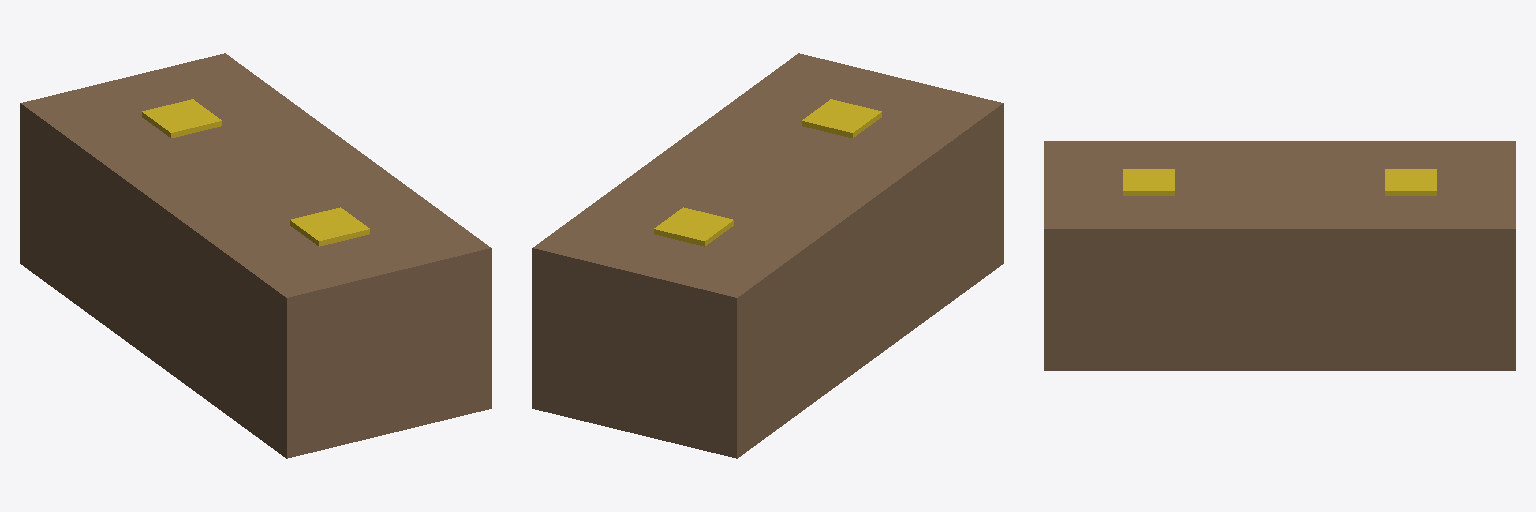
robot.urdf — workcell_arm6:
<?xml version="1.0"?>
<!-- workcell_arm6: fixed scenery for the sample arm (docs/design/robot-classes.md §4): a table in
     front of it with a pick station and a place station marked on the top. The root link
     "world" makes it static. -->
<robot name="workcell_arm6">
  <material name="table"><color rgba="0.55 0.45 0.35 1"/></material>
  <material name="station"><color rgba="0.85 0.75 0.2 1"/></material>
  <link name="world"/>
  <joint name="world_to_table" type="fixed">
    <parent link="world"/>
    <child link="table"/>
    <origin xyz="0.55 0 0.15"/>
  </joint>
  <link name="table">
    <visual><geometry><box size="0.4 0.9 0.3"/></geometry><material name="table"/></visual>
    <collision><geometry><box size="0.4 0.9 0.3"/></geometry></collision>
  </link>
  <joint name="table_to_pick" type="fixed">
    <parent link="table"/>
    <child link="pick_station"/>
    <origin xyz="0 0.25 0.155"/>
  </joint>
  <link name="pick_station">
    <visual><geometry><box size="0.1 0.1 0.01"/></geometry><material name="station"/></visual>
  </link>
  <joint name="table_to_place" type="fixed">
    <parent link="table"/>
    <child link="place_station"/>
    <origin xyz="0 -0.25 0.155"/>
  </joint>
  <link name="place_station">
    <visual><geometry><box size="0.1 0.1 0.01"/></geometry><material name="station"/></visual>
  </link>
</robot>

--- What the picture shows (computed from the rendered views, not written in the file) ---
3 views of the same robot in one strip: view 1: azimuth 30°, elevation 25°; view 2: azimuth 150°, elevation 25°; view 3: azimuth 270°, elevation 25° (orthographic).
Robot: workcell_arm6 — 4 links, 3 joints (3 fixed); root link world; default pose: all joints at 0.
Visible links, largest first — view 1: table, pick_station, place_station; view 2: table, place_station, pick_station; view 3: table, pick_station, place_station.
Boxes of the visible links, left/top/right/bottom form: table: left=20, top=53, right=491, bottom=458; pick_station: left=142, top=99, right=221, bottom=137; place_station: left=290, top=207, right=369, bottom=246; table: left=532, top=53, right=1003, bottom=458; place_station: left=802, top=99, right=881, bottom=137; pick_station: left=654, top=207, right=733, bottom=246; table: left=1044, top=141, right=1515, bottom=370; pick_station: left=1385, top=169, right=1436, bottom=195; place_station: left=1123, top=169, right=1174, bottom=195.
Size in the robot's own frame: 0.4 by 0.9 by 0.31 metres.
Geometry: primitives only (box / cylinder / sphere), no mesh files.
